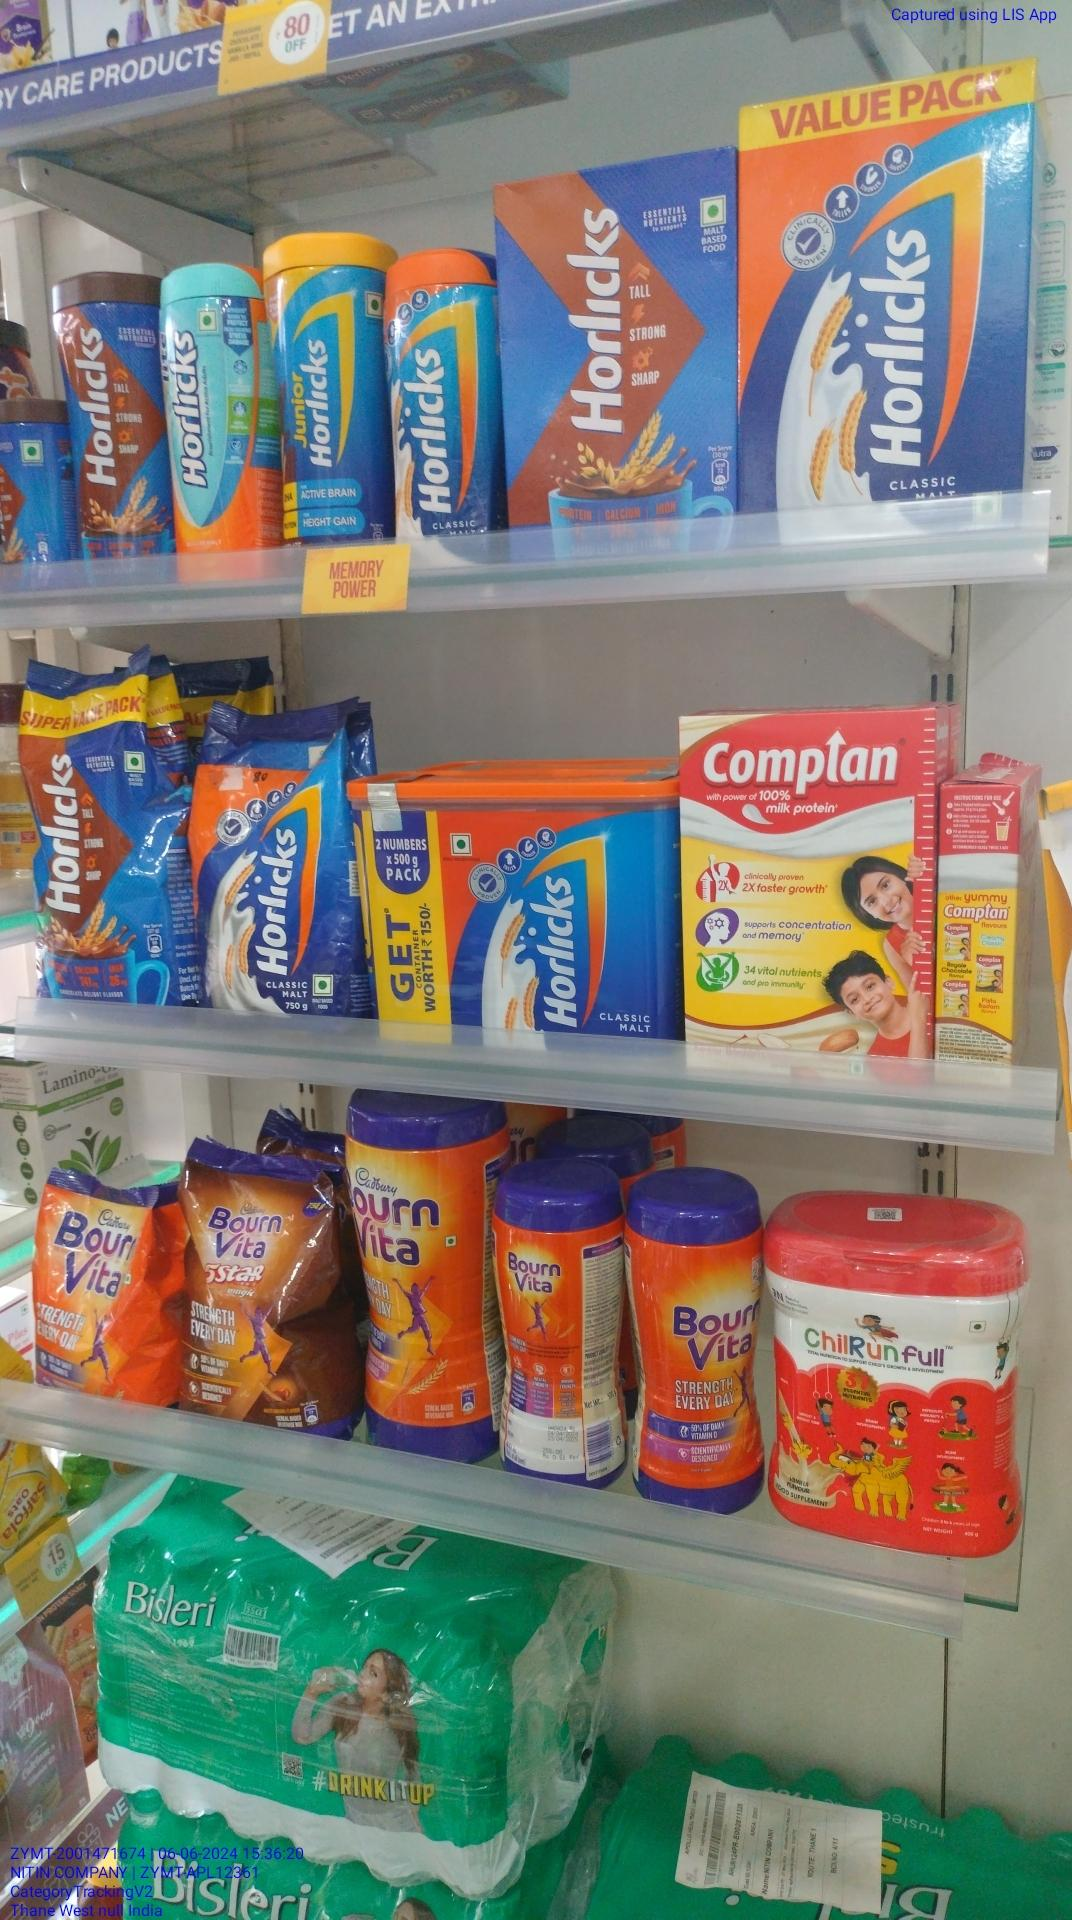BOURN_VITA_1_KG_JAR: (352, 1096, 498, 1457)
BOURN_VITA_500_G_JAR: (633, 1171, 765, 1520)
BOURN_VITA_500_G_POUCH: (38, 1174, 170, 1402)
BOURN_VITA_FIVE_STAR_MAGIC_750_G_POUCH: (182, 1147, 345, 1432)
HORLICKS_LITE_REGULAR_MALT_500_GM_JAR: (166, 260, 269, 580)
HORLICK_CHOCOLATE_500_G_JAR: (63, 270, 161, 566)
HORLICK_CHOCOLATE_500_G_PACK: (498, 171, 733, 542)
HORLICK_CLASSIC_MALT_500_G_JAR: (385, 248, 493, 566)
HORLICK_CLASSIC_MALT_750_G_POUCH: (199, 708, 349, 1010)
HORLICK_MALT_1_KG_CONTAINER: (359, 769, 671, 1056)
